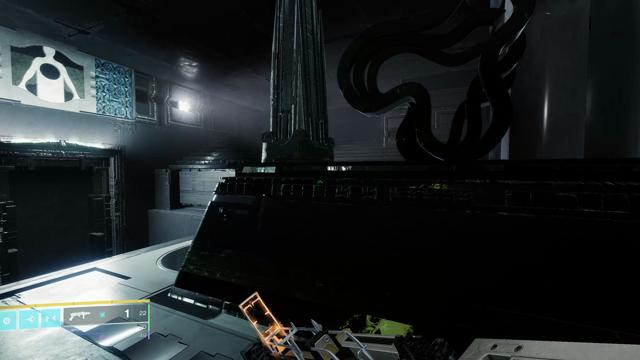grief: (10, 45, 85, 103)
